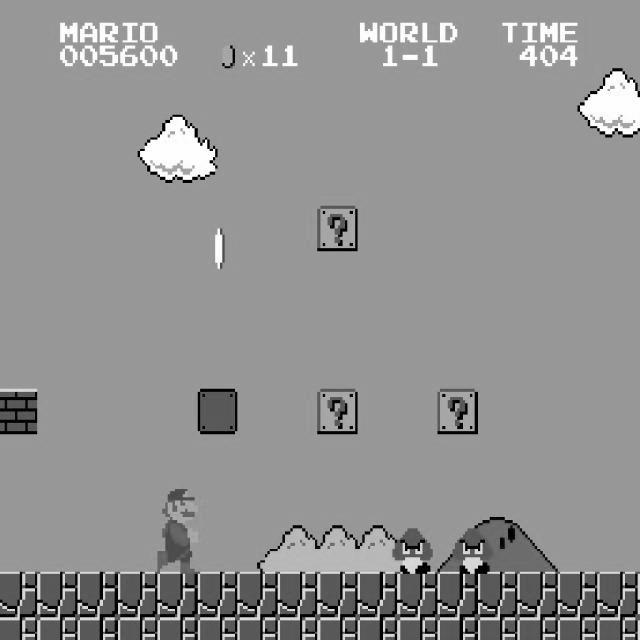0- big_mario: (155, 480, 198, 574)
1- brick_block: (0, 388, 37, 434)
13- mystery_block: (317, 388, 358, 434), (437, 388, 478, 434), (317, 206, 358, 251)
17- undestructible_block: (37, 572, 78, 618), (77, 572, 118, 618), (117, 572, 158, 618), (157, 572, 198, 618), (197, 572, 238, 618), (237, 572, 278, 618), (277, 572, 318, 618), (317, 572, 358, 618), (357, 572, 398, 618), (397, 572, 438, 618), (437, 572, 478, 618), (477, 572, 518, 618), (517, 572, 558, 618), (557, 572, 598, 618), (597, 572, 638, 618), (0, 572, 37, 618), (37, 617, 78, 640), (77, 617, 118, 640), (117, 617, 158, 640), (157, 617, 198, 640), (197, 617, 238, 640), (237, 617, 278, 640), (277, 617, 318, 640), (317, 617, 358, 640), (357, 617, 398, 640), (397, 617, 438, 640), (437, 617, 478, 640), (477, 617, 518, 640), (517, 617, 558, 640), (557, 617, 598, 640), (597, 617, 638, 640), (0, 617, 37, 640), (637, 571, 640, 617), (637, 617, 640, 639)
3- empty_block: (197, 388, 238, 434)
8- goomba: (390, 526, 433, 574), (450, 526, 492, 574)
